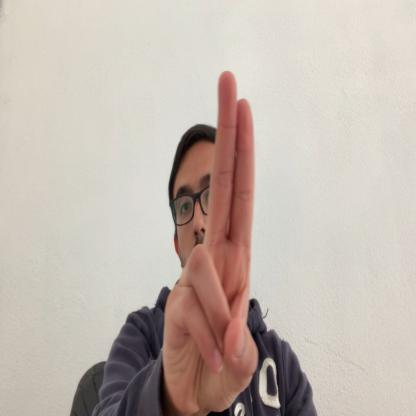U: (166, 66, 258, 413)
